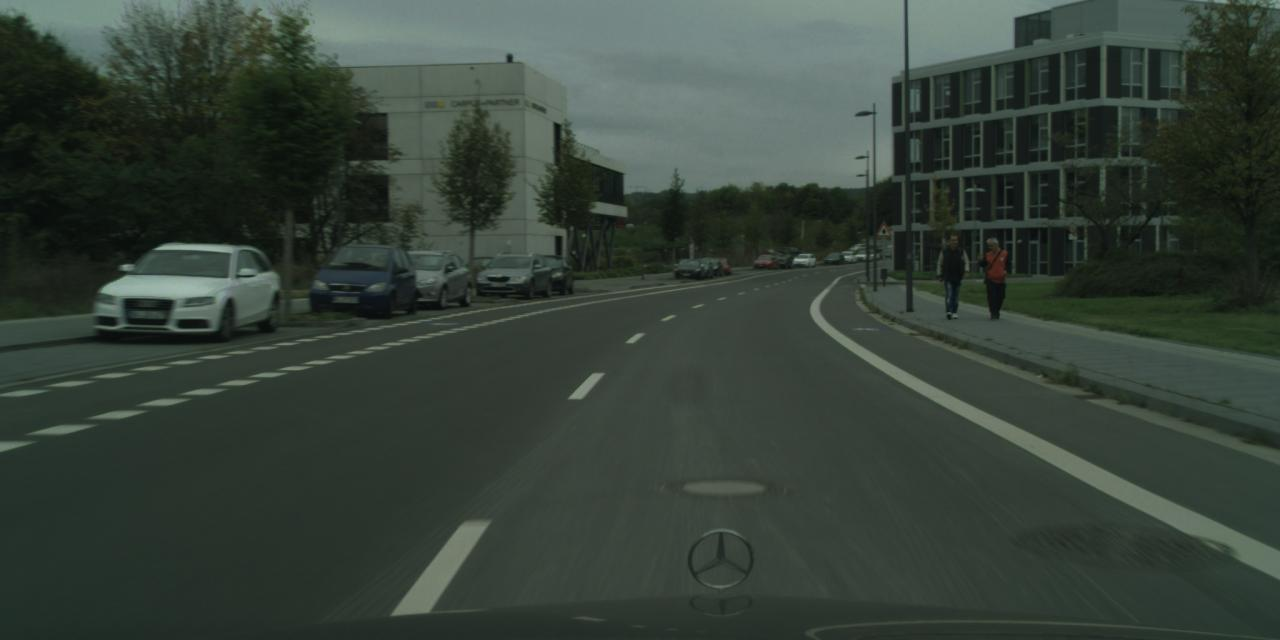ped: (936, 234, 970, 318), (977, 238, 1011, 320)
